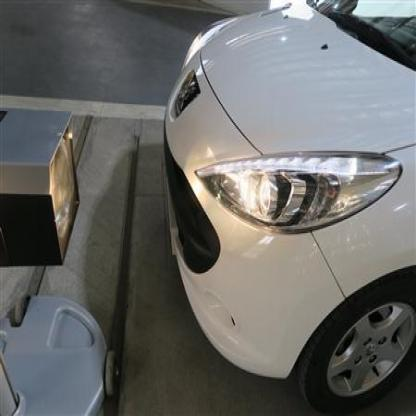Car: (162, 0, 416, 416)
